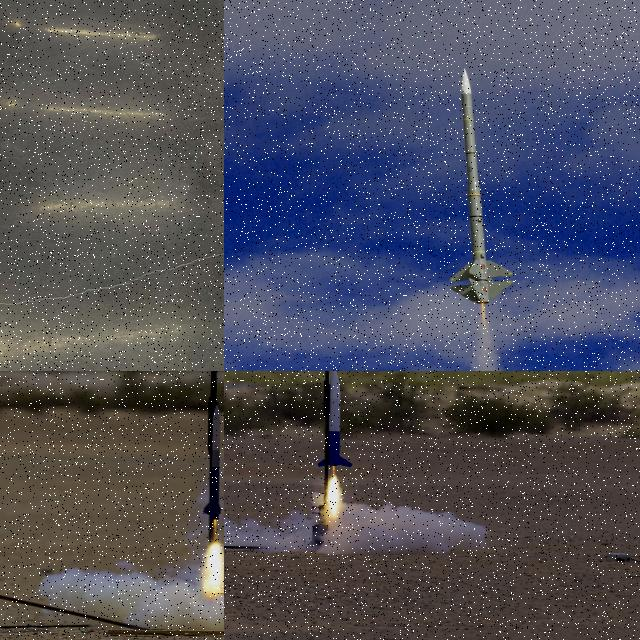Rocket: (447, 68, 514, 304), (316, 371, 353, 468), (204, 404, 223, 521)
